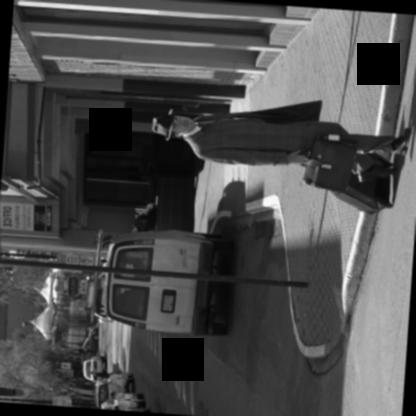handbag: (300, 134, 360, 193)
suitcase: (331, 172, 392, 214)
